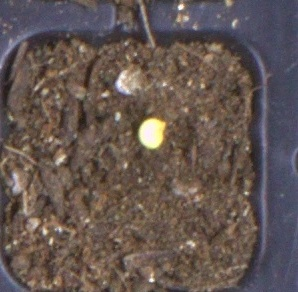chilli seed: (137, 118, 166, 149)
